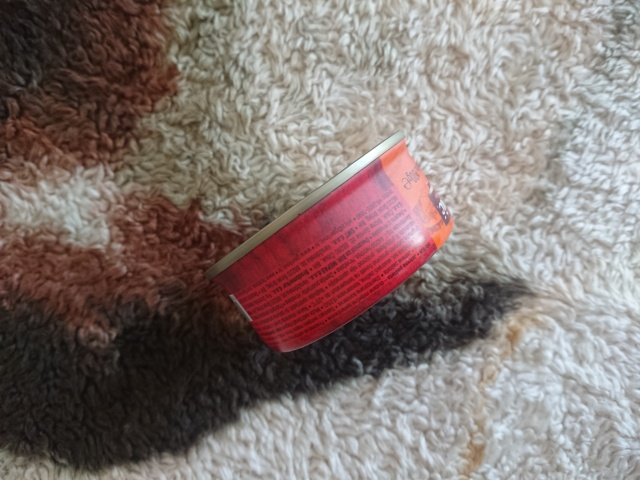Gavrilovic Pork Liver Pate 100g: (200, 127, 457, 357)
